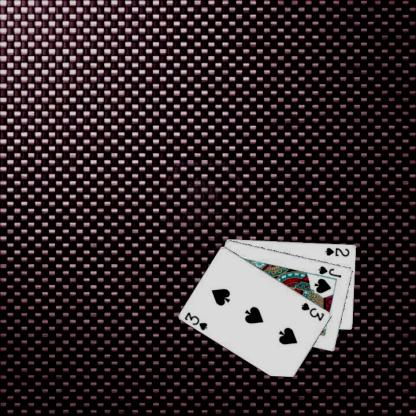2S: (323, 245, 351, 258)
3S: (299, 300, 326, 322), (182, 310, 209, 332)
JS: (316, 264, 343, 278)
